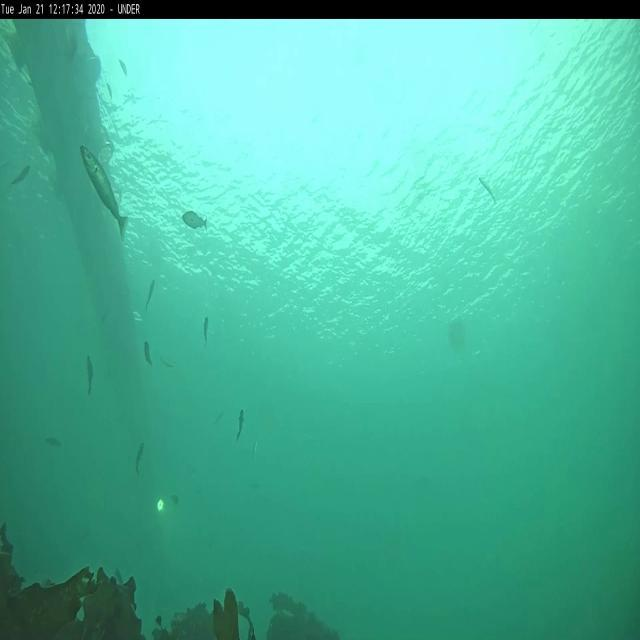fish: (80, 143, 130, 240), (10, 163, 34, 192), (478, 176, 500, 205), (40, 431, 66, 454), (182, 211, 209, 232), (130, 442, 148, 472), (253, 444, 265, 486), (143, 279, 157, 311), (83, 350, 94, 390), (234, 408, 246, 441), (158, 354, 176, 376), (211, 408, 226, 433), (143, 340, 154, 371), (117, 56, 129, 80), (166, 495, 184, 508), (202, 316, 210, 344)
